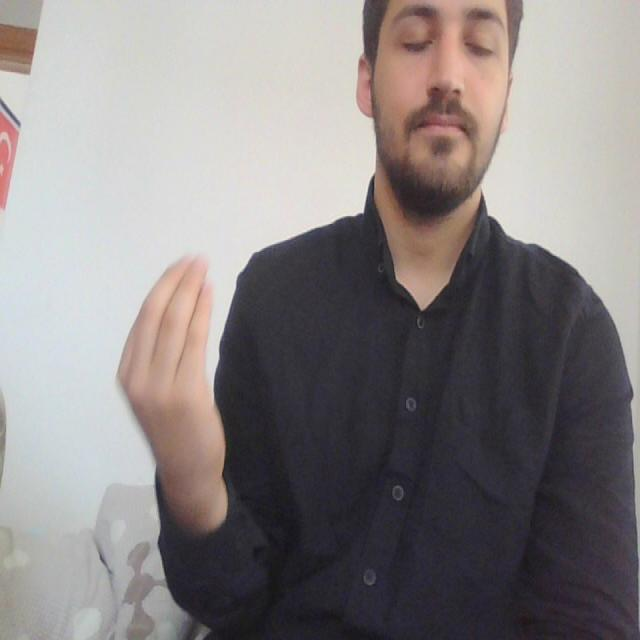iyi: (110, 241, 227, 424)
